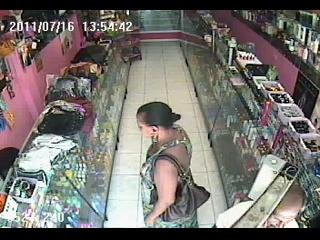Normal: (136, 102, 199, 228)
